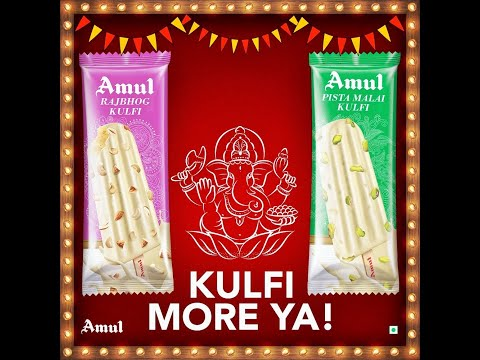Amul: (92, 72, 157, 98), (324, 69, 385, 94), (78, 317, 126, 336)
